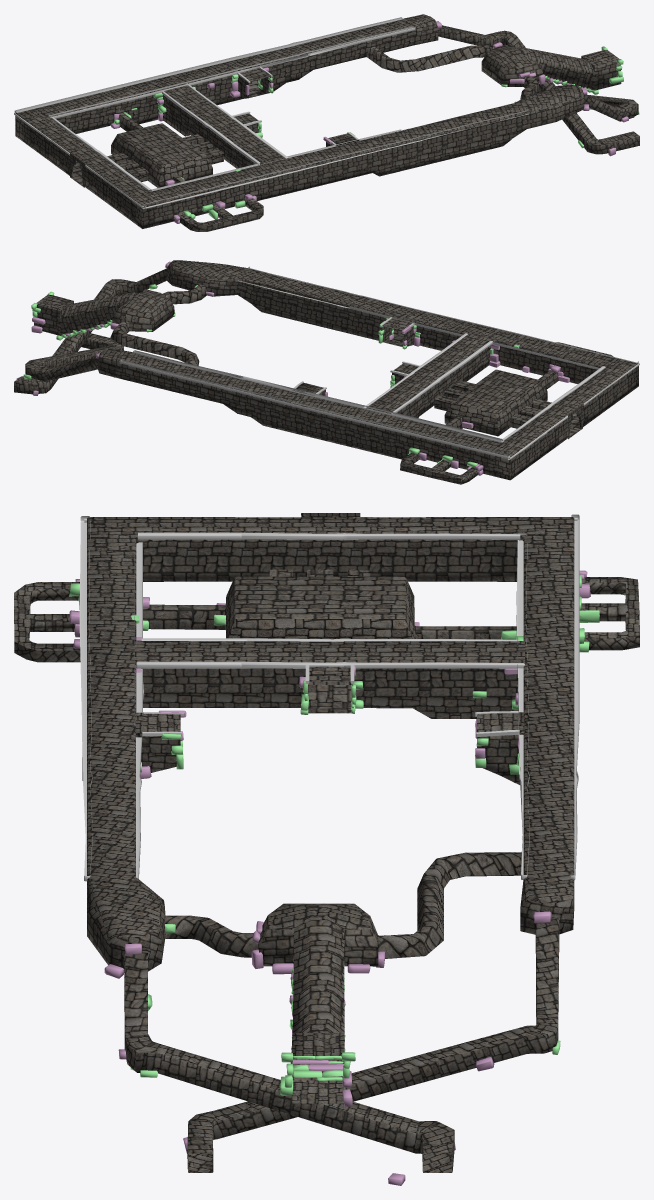
Rendered from TombLevel2_Alley.FBX.
3 views of the same model, one above another, from view 1: azimuth 30°, elevation 25°; view 2: azimuth 150°, elevation 25°; view 3: azimuth 270°, elevation 25° (orthographic). The views are drawn at different scales.
Parts seen in each view (by area): view 1: Tomb2_Alley1, Tomb2_SupportWall, Tomb2_Rock; view 2: Tomb2_Alley1, Tomb2_SupportWall, Tomb2_Rock; view 3: Tomb2_Alley1, Tomb2_SupportWall, Tomb2_Rock.
Boxes of the visible parts, x1,y1,x2,y2 form: Tomb2_Alley1: (15,14,639,231); Tomb2_SupportWall: (14,17,529,208); Tomb2_Rock: (110,21,639,223); Tomb2_Alley1: (14,260,638,484); Tomb2_SupportWall: (120,266,639,459); Tomb2_Rock: (16,261,569,475); Tomb2_Alley1: (14,513,639,1172); Tomb2_SupportWall: (79,514,579,881); Tomb2_Rock: (69,570,599,1185).
Bounding box in the file's own units: 8654 × 1467 × 4572.
